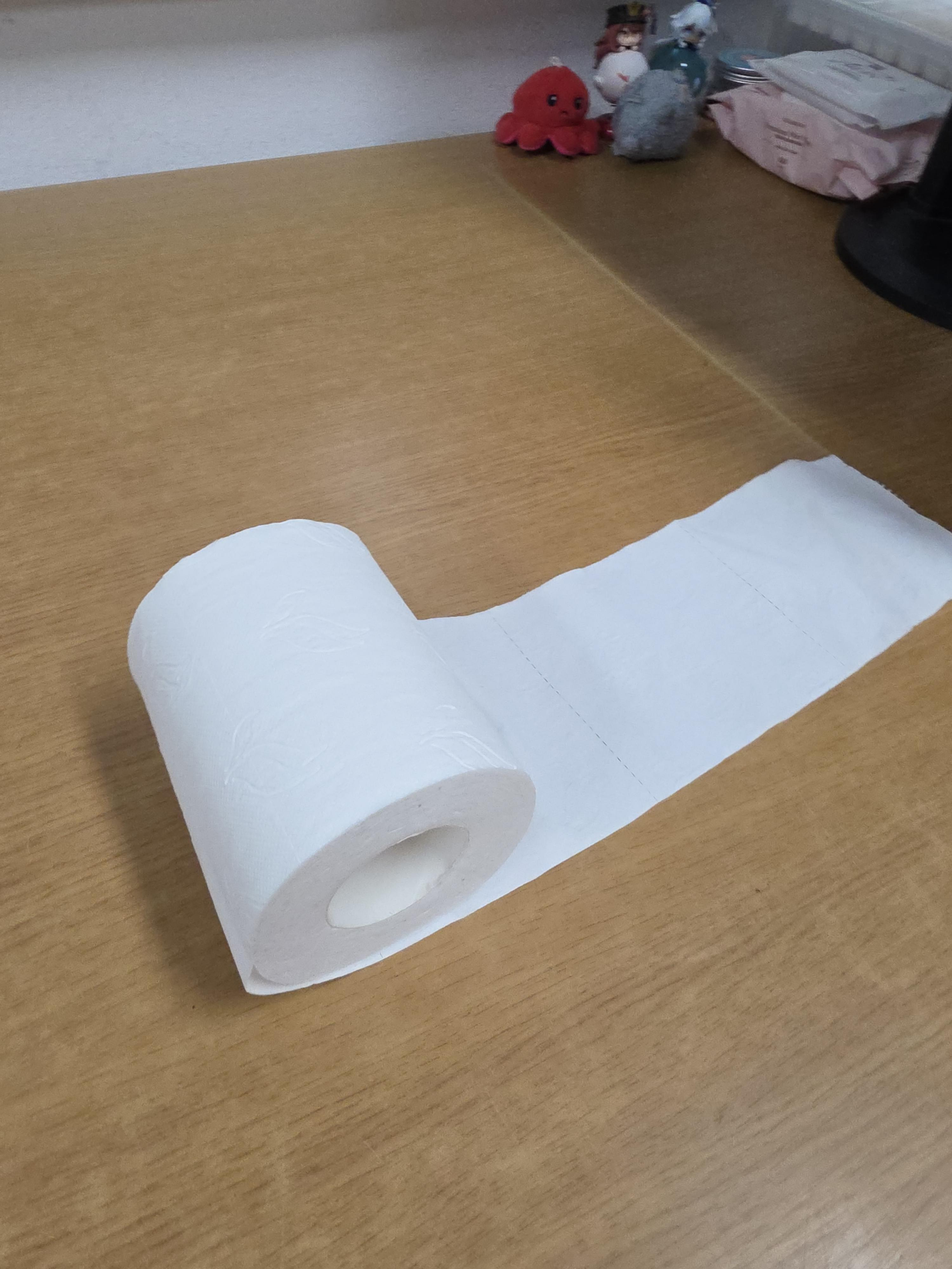tissue: (127, 456, 951, 996)
